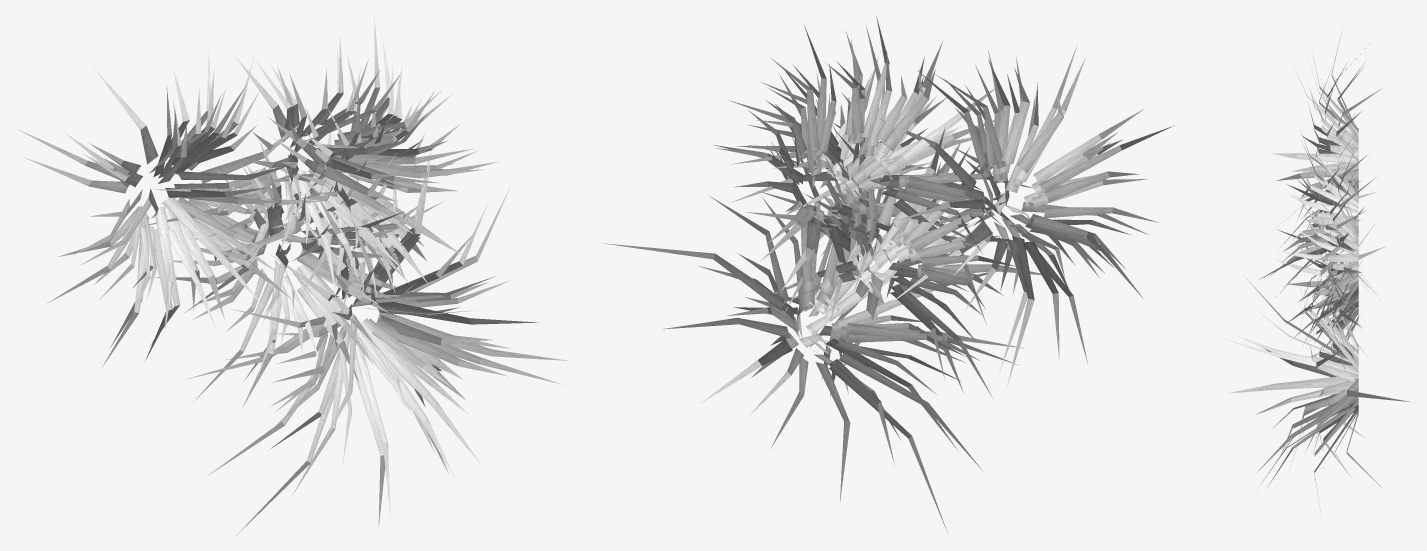
The model's file is SM_Grass_Tussock.obj.
3 views of the same model, side by side, from view 1: azimuth 30°, elevation 25°; view 2: azimuth 150°, elevation 25°; view 3: azimuth 270°, elevation 25° (orthographic). The views are drawn at different scales.
Visible parts, largest first — view 1: SM_Grass_Tussock; view 2: SM_Grass_Tussock; view 3: SM_Grass_Tussock.
Part boxes in pixels (x1=…): SM_Grass_Tussock: x1=15, y1=16, x2=568, y2=535; SM_Grass_Tussock: x1=600, y1=16, x2=1174, y2=532; SM_Grass_Tussock: x1=1209, y1=26, x2=1411, y2=526.
Size of the model in its own units: 166 by 150 by 68.83.
3 materials, 3 textured.
